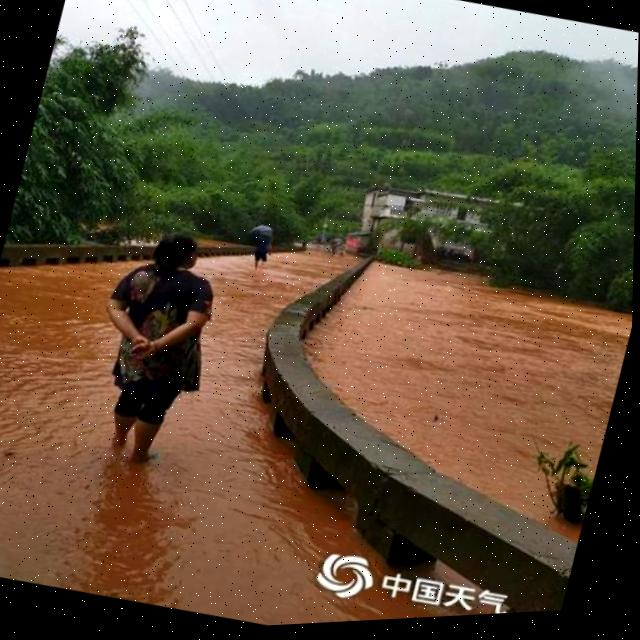civilian: (57, 201, 240, 498), (242, 227, 279, 283)
